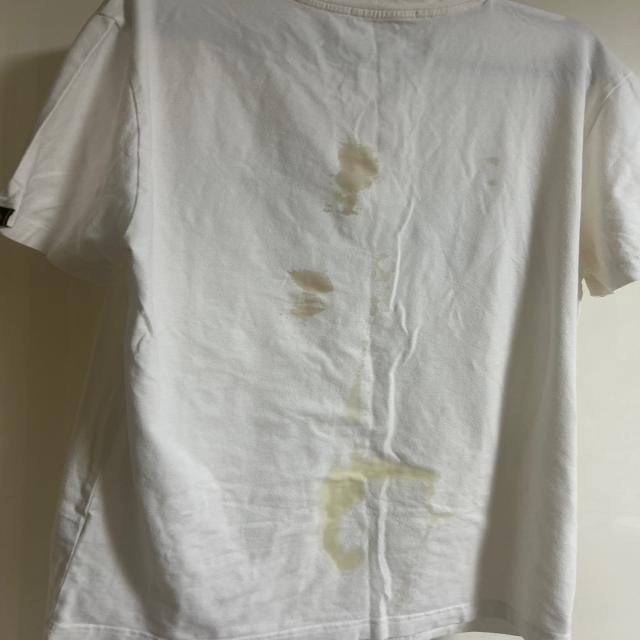stain: (318, 457, 390, 571), (324, 144, 379, 220), (278, 262, 334, 326), (337, 369, 372, 432), (377, 457, 444, 489), (475, 150, 506, 196), (416, 480, 446, 522), (372, 252, 396, 290)
